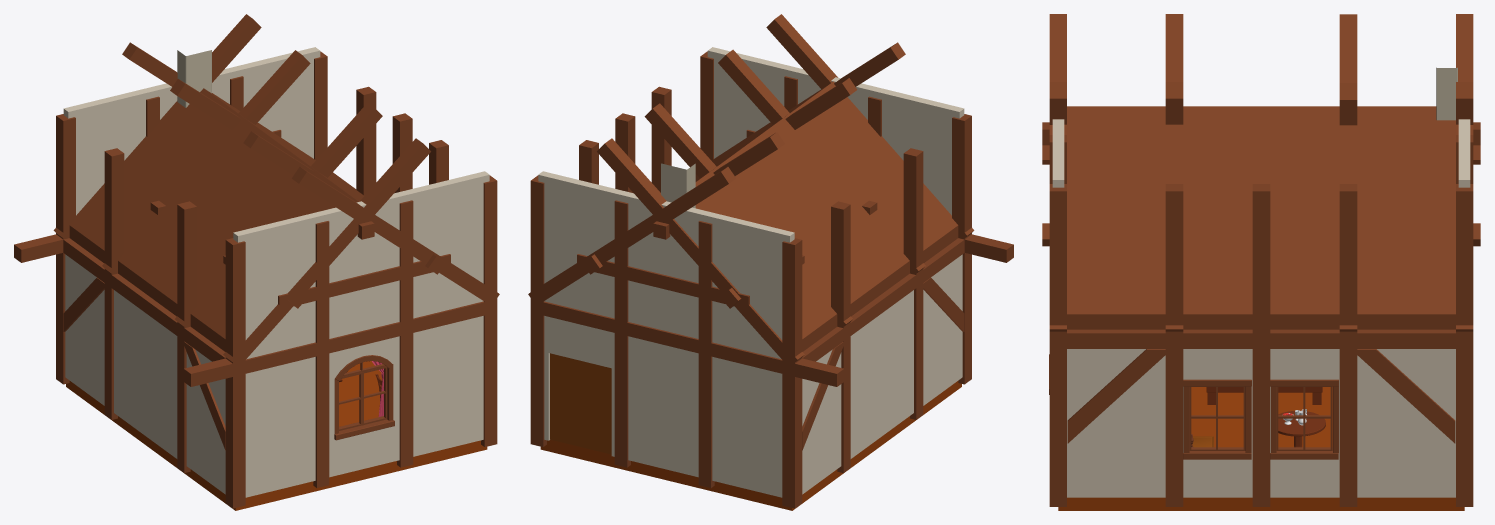
Rendered from InnRoom.gltf.
The picture shows the model from 3 angles, left to right: view 1: azimuth 30°, elevation 25°; view 2: azimuth 150°, elevation 25°; view 3: azimuth 270°, elevation 25°; orthographic projection. The views are drawn at different scales.
Parts seen in each view (by area): view 1: Ceiling, Cube.054, Cube.001, Cube.003, Cube.055, Cube.058, Cube.004, Cube.007, Cube.016, Cube.005, Cube.010, Cube.012 (+17 smaller); view 2: Ceiling, Cube.055, Cube, Cube.003, Cube.054, Cube.059, Door, Cube.006, Cube.015, Cube.004, Cube.013, Cube.009 (+17 smaller); view 3: Ceiling, Cube.002, Cube.004, Cube.018, Cube.008, Cube.025, Cube.039, Cube.010, Cube.009, Window.Frame.002, Window.Frame.012, Cube.056 (+10 smaller).
Part boxes in pixels (x1,y1,x2,y2): Ceiling: [69, 88, 363, 351]; Cube.054: [233, 171, 489, 359]; Cube.001: [245, 316, 483, 497]; Cube.003: [65, 254, 225, 494]; Cube.055: [63, 47, 320, 215]; Cube.058: [223, 138, 499, 366]; Cube.004: [66, 361, 487, 510]; Cube.007: [225, 238, 245, 508]; Cube.016: [183, 301, 484, 386]; Cube.005: [104, 148, 124, 419]; Cube.010: [481, 175, 497, 446]; Cube.012: [313, 221, 329, 487]; Ceiling: [695, 81, 958, 351]; Cube.055: [538, 171, 794, 359]; Cube: [544, 316, 782, 497]; Cube.003: [802, 254, 962, 494]; Cube.054: [707, 47, 964, 215]; Cube.059: [528, 138, 804, 367]; Door: [550, 353, 611, 454]; Cube.006: [782, 238, 802, 508]; Cube.015: [543, 301, 844, 386]; Cube.004: [540, 381, 961, 510]; Cube.013: [614, 200, 630, 467]; Cube.009: [530, 175, 546, 446]; Ceiling: [1064, 106, 1458, 329]; Cube.002: [1067, 349, 1455, 497]; Cube.004: [1058, 387, 1464, 510]; Cube.018: [1049, 329, 1471, 348]; Cube.008: [1339, 184, 1357, 506]; Cube.025: [1252, 184, 1270, 506]; Cube.039: [1165, 184, 1183, 506]; Cube.010: [1049, 184, 1066, 506]; Cube.009: [1456, 184, 1473, 506]; Window.Frame.002: [1183, 379, 1251, 459]; Window.Frame.012: [1270, 379, 1338, 459]; Cube.056: [1339, 14, 1357, 331].
Size of the model in its own units: 7.36 by 7.41 by 7.56.
